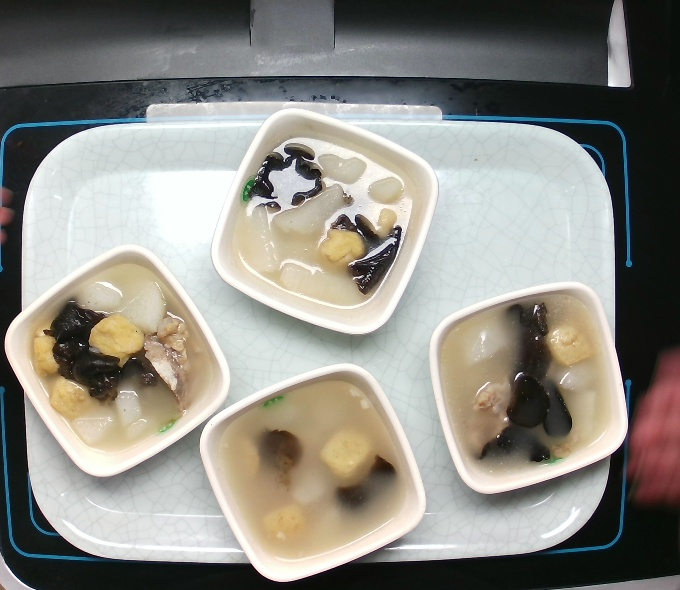wcq-ShanYaoTang: (204, 102, 446, 342), (3, 237, 237, 481), (195, 357, 433, 587), (424, 277, 632, 499)
